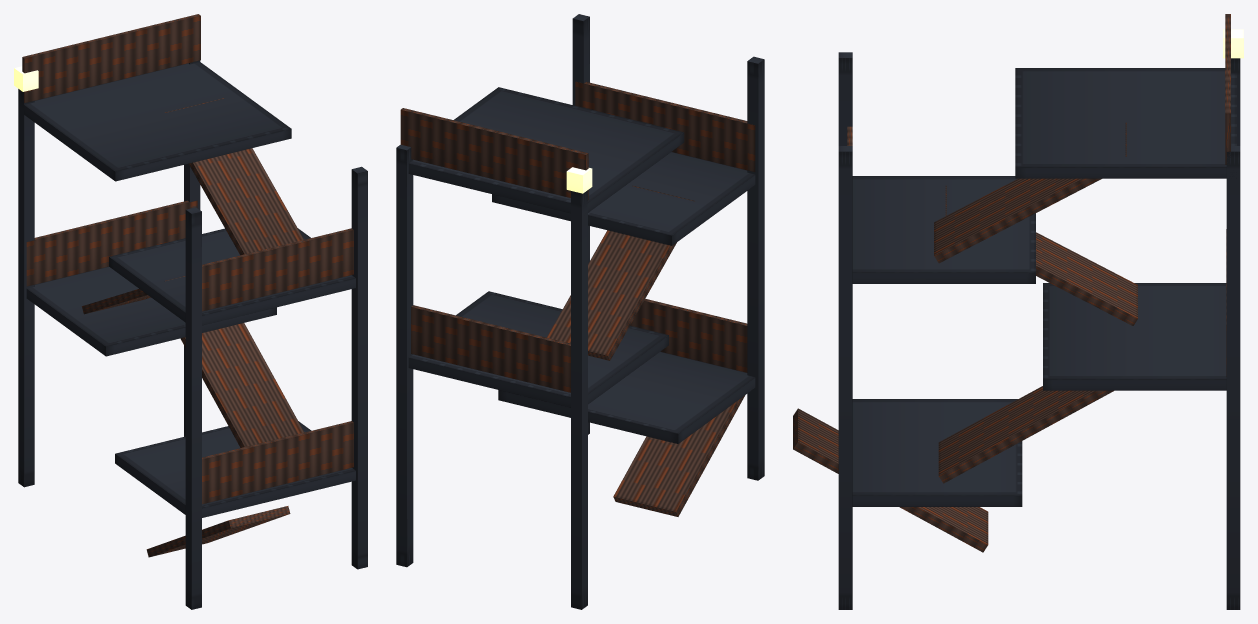
File: ashblock_fire_escape_tower.glb
3 renders of one model, left to right at view 1: azimuth 30°, elevation 25°; view 2: azimuth 150°, elevation 25°; view 3: azimuth 270°, elevation 25°, orthographic. The views are drawn at different scales.
Parts seen in each view (by area): view 1: ashblock_fire_escape_tower; view 2: ashblock_fire_escape_tower; view 3: ashblock_fire_escape_tower.
Part boxes in pixels (x1,y1,x2,y2): ashblock_fire_escape_tower: (14, 14, 367, 609); ashblock_fire_escape_tower: (396, 14, 764, 609); ashblock_fire_escape_tower: (793, 14, 1243, 609).
Bounding box in the file's own units: 3.45 × 7.91 × 6.51.
1 material, 1 textured.
